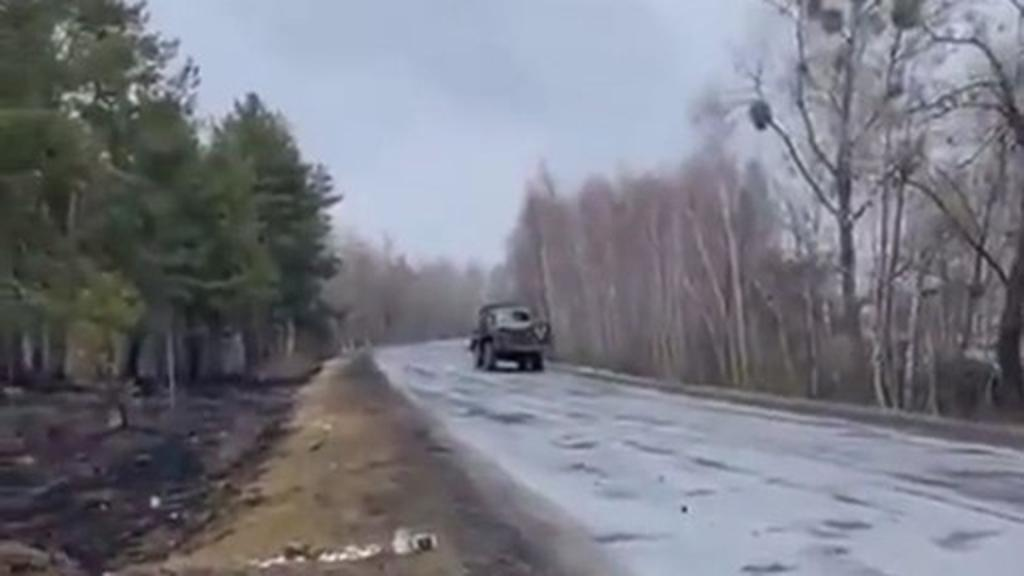TRUCK: (464, 298, 554, 372)
